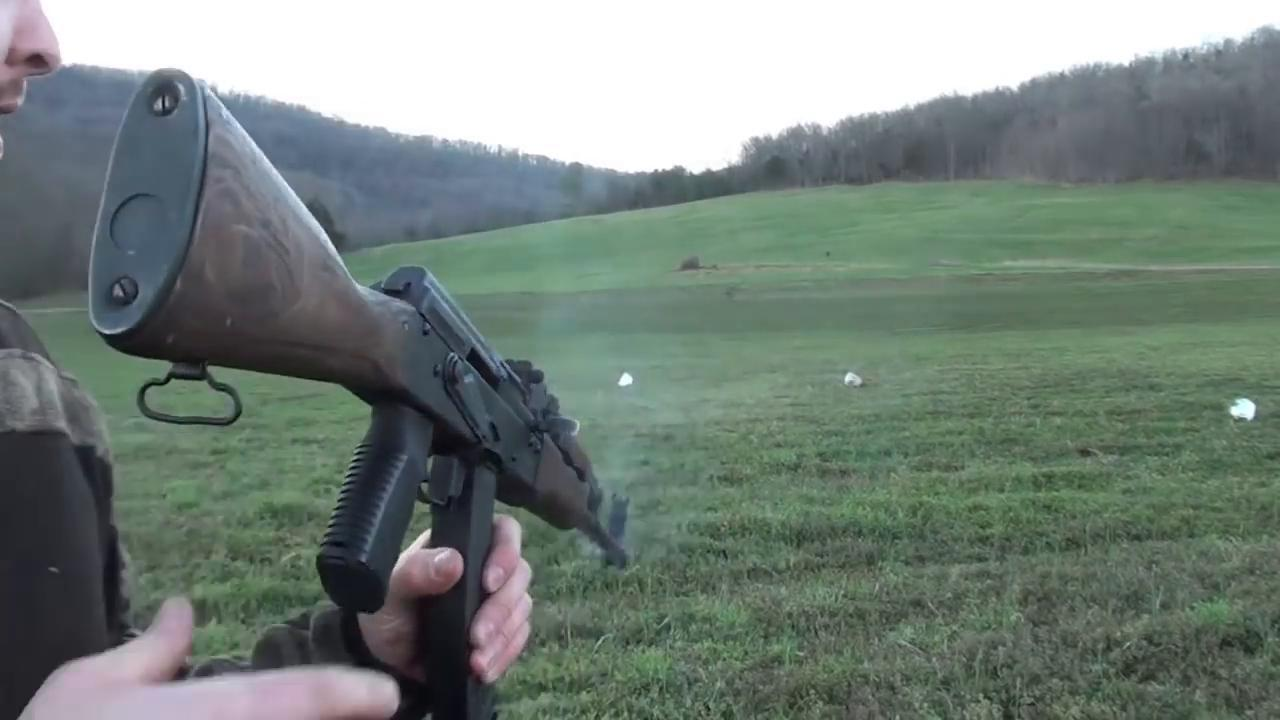AK47 Rifle: (88, 63, 629, 714)
